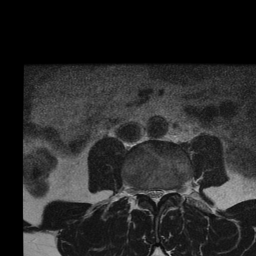CCS_normal: (152, 180, 159, 210)
LFS_stenosis: (164, 182, 171, 200)
LLS_stenosis: (158, 181, 165, 202)
RFS_stenosis: (137, 180, 145, 201)
RLS_stenosis: (145, 182, 152, 204)
